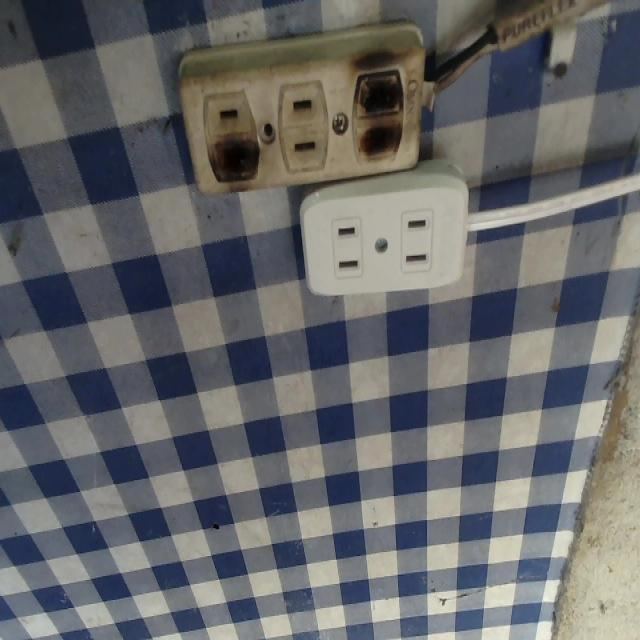-: (347, 61, 417, 164), (199, 135, 270, 189)
